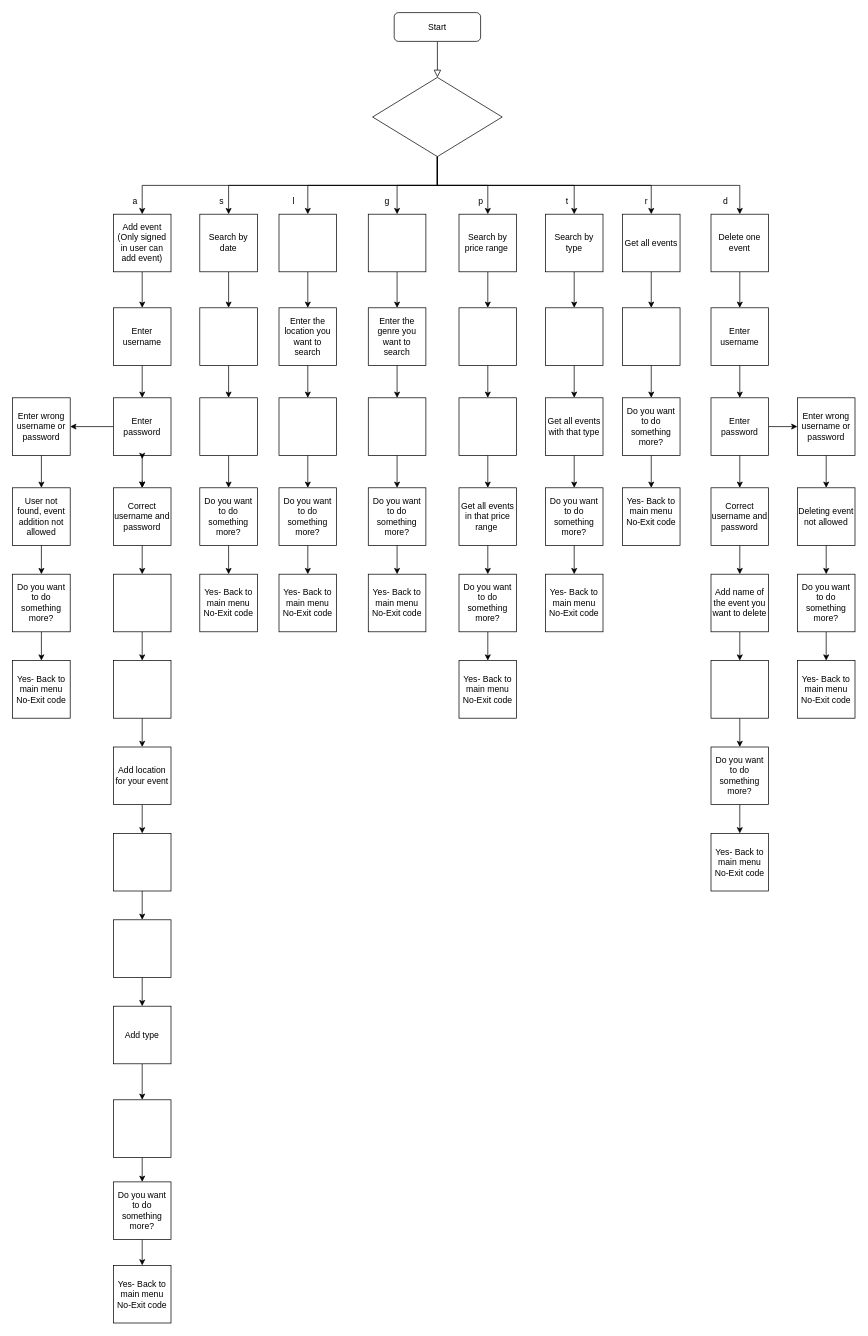
Some shapes in this 868 by 1336 pixel diagram are drawn without their labels. The centre of each missing label's shape, as x and y in pixels:
"Add date for your event (yyyy-mm-dd format)" goes at point 142,689.
"Add genre" goes at point 142,862.
"Add name for the event you want to add" goes at point 142,602.
"Add ticket price" goes at point 142,948.
"Choose one option from main menu" goes at point 437,117.
"Displays all inserted events" goes at point 651,336.
"Enter the date for the events you want to search" goes at point 228,336.
"Enter the max price" goes at point 487,426.
"Enter the min price" goes at point 487,336.
"Enter the type you want to search" goes at point 574,336.
"Event was deleted successfully from the database" goes at point 739,689.
"Get all events in that location" goes at point 307,426.
"Get all events on that date" goes at point 228,426.
"Get all events with that genre" goes at point 397,426.
"New event is added to database" goes at point 142,1128.
"Search by genre" goes at point 397,242.
"Search by location" goes at point 307,242.
